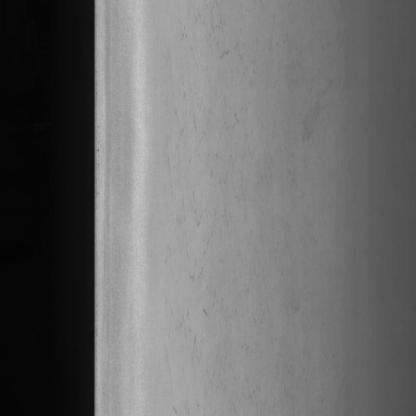silk_spot: (166, 64, 255, 406)
